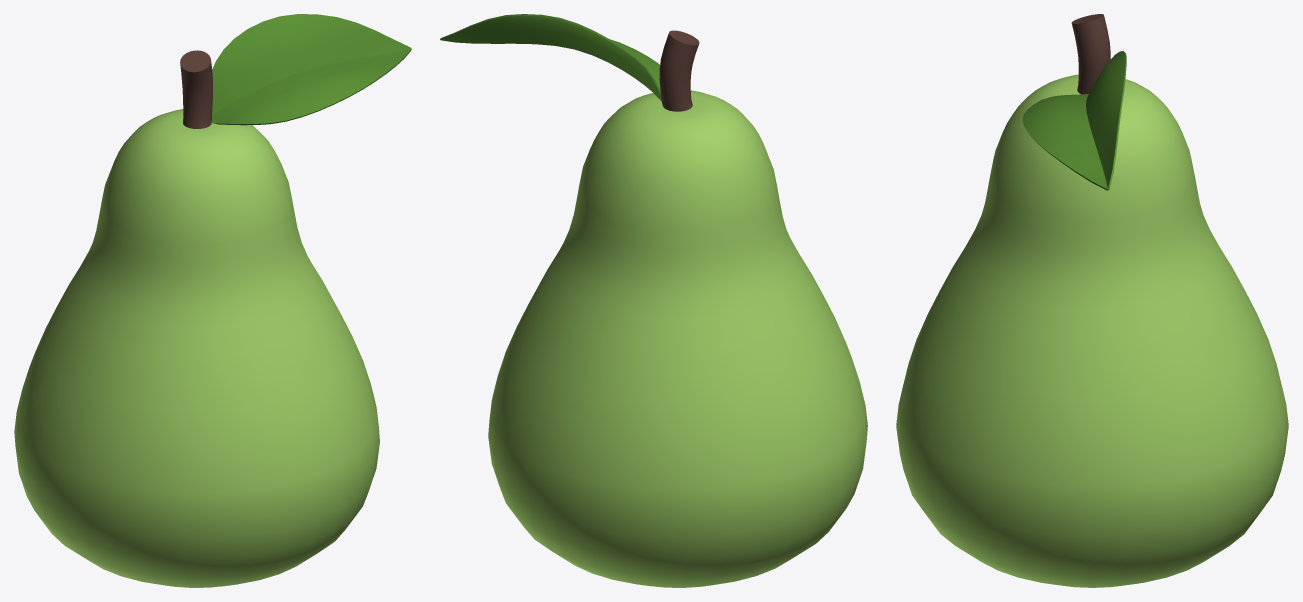
File: pear.gltf
3 views of the same model, side by side, from view 1: azimuth 30°, elevation 25°; view 2: azimuth 150°, elevation 25°; view 3: azimuth 270°, elevation 25° (orthographic). The views are drawn at different scales.
Visible parts, largest first — view 1: Sphere.476; view 2: Sphere.476; view 3: Sphere.476.
Boxes of the visible parts, left/top/right/bottom form: Sphere.476: left=14, top=14, right=411, bottom=587; Sphere.476: left=440, top=14, right=867, bottom=587; Sphere.476: left=896, top=14, right=1288, bottom=587.
Bounding box in the file's own units: 1.72 × 2.21 × 1.43.
1 material, 1 textured.
